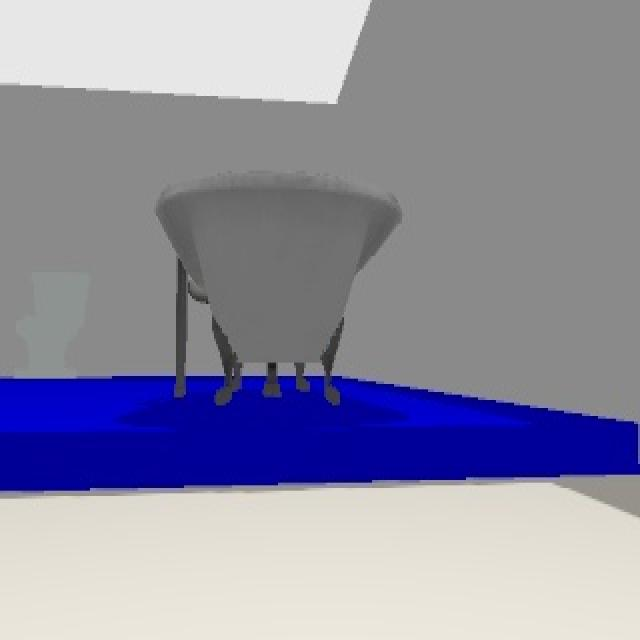bathtub: (154, 171, 406, 411)
